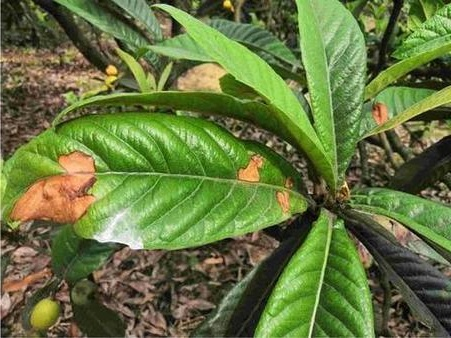Anthracnose: (25, 145, 101, 229), (269, 171, 306, 216), (245, 145, 282, 175), (370, 101, 397, 136)
